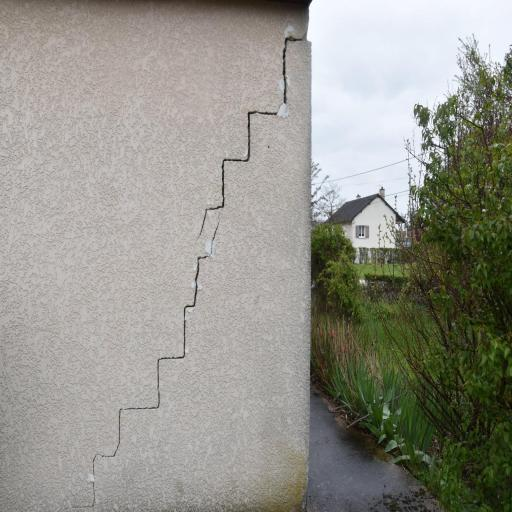spalling: (91, 28, 304, 510)
